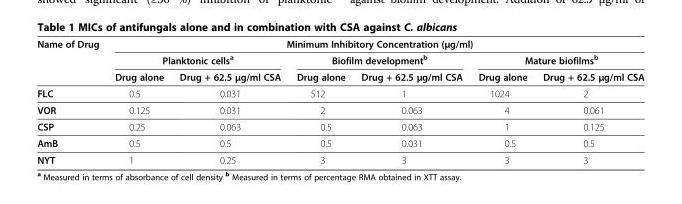table: (36, 36, 643, 165)
table column: (170, 36, 288, 165), (352, 36, 469, 165), (534, 36, 643, 165), (36, 36, 106, 165), (469, 36, 534, 165), (106, 36, 170, 165), (288, 36, 352, 165)
table column header: (36, 36, 643, 84)
table row: (36, 67, 643, 84), (36, 84, 643, 101), (36, 101, 643, 118), (36, 134, 643, 151), (36, 51, 643, 67), (36, 118, 643, 134), (36, 36, 643, 51), (36, 151, 643, 165)
table spanning cell: (106, 36, 643, 51), (36, 36, 106, 84), (106, 51, 288, 67), (288, 51, 469, 67), (469, 51, 643, 67)
